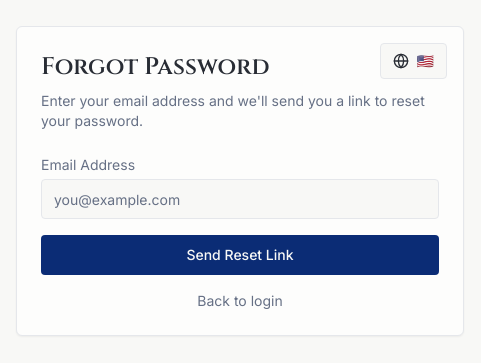
Test: ForgotPassword page › shows validation error for invalid email
Type "invalid-email" into the field labelled "Email Address".
click(240, 199); type("invalid-email")  # box top-left (41, 179), bottom-right (439, 219)
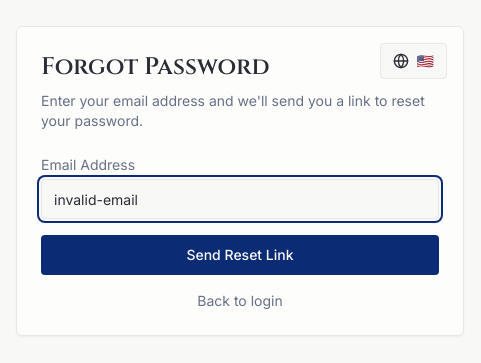
Click the button "Send Reset Link".
click(240, 255)  # box top-left (41, 235), bottom-right (439, 275)
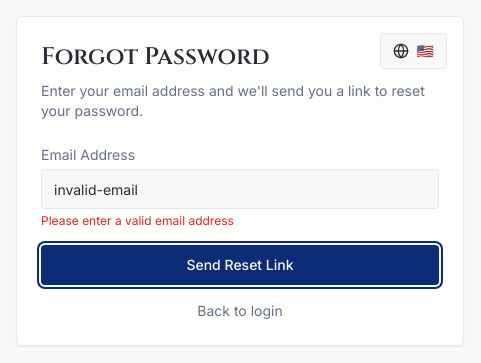
Expected: the text "Please enter a valid email address" is shown, top-left (41, 213), bottom-right (234, 228)
